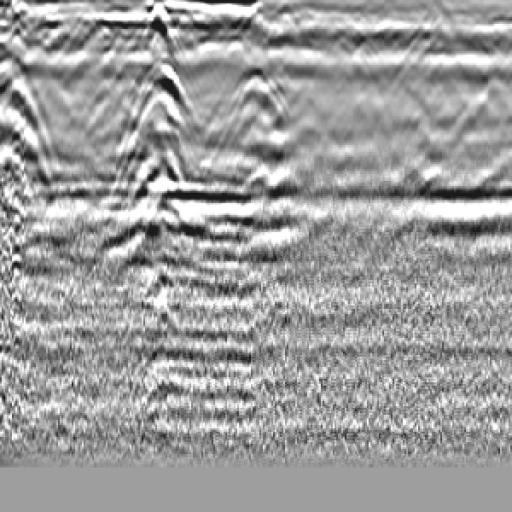metalic: (108, 18, 210, 239)
nonmetalic: (1, 40, 66, 234), (219, 66, 308, 204)
